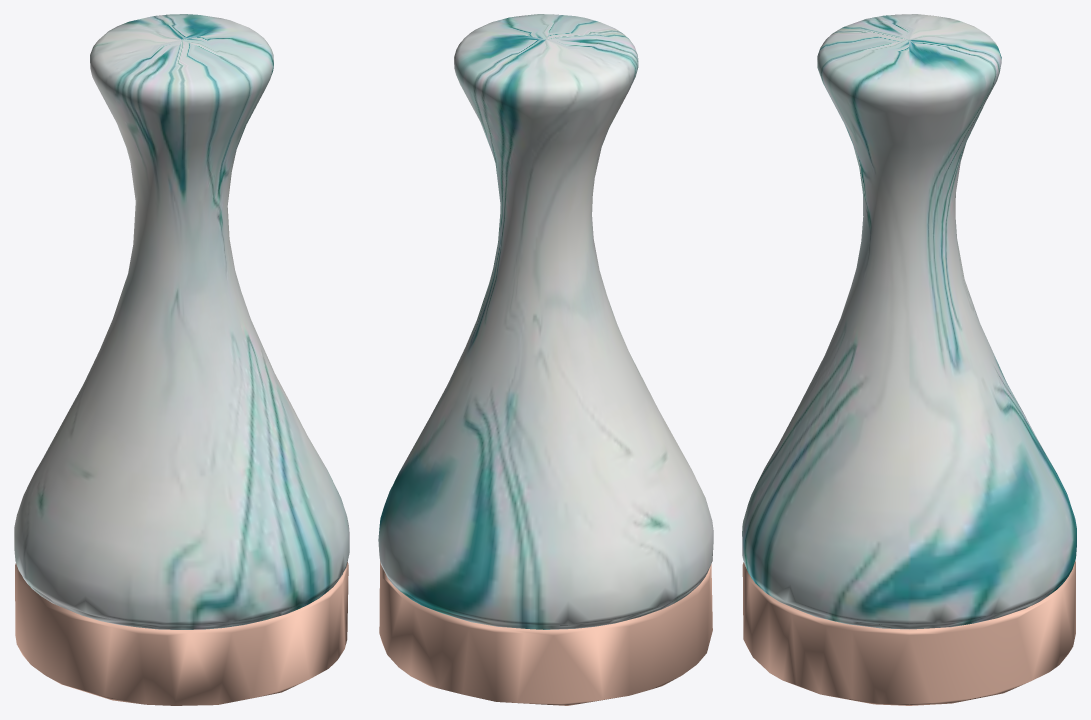
The model's file is strelec_bila.glb.
The picture shows the model from 3 angles, left to right: view 1: azimuth 30°, elevation 25°; view 2: azimuth 150°, elevation 25°; view 3: azimuth 270°, elevation 25°; orthographic projection.
Visible parts, largest first — view 1: strelec_bila; view 2: strelec_bila; view 3: strelec_bila.
Boxes of the visible parts, x1,y1,x2,y2 form: strelec_bila: (14,14,349,705); strelec_bila: (378,14,713,705); strelec_bila: (742,14,1076,705).
Bounding box in the file's own units: 0.0583 × 0.1147 × 0.0582.
Materials: 2 (1 with a texture image).
